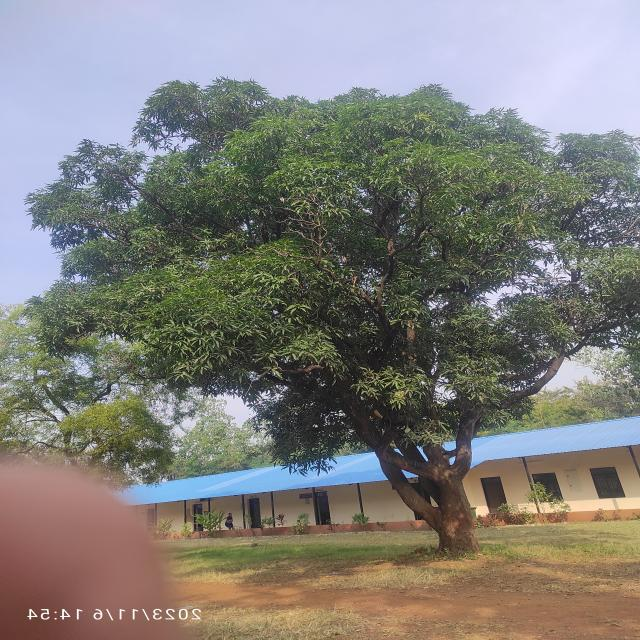Mango Tree: (29, 75, 615, 511)
